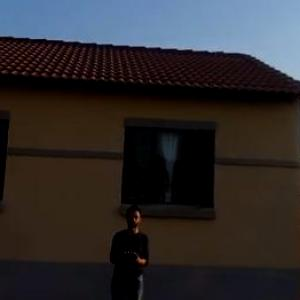follow: (100, 193, 154, 299)
